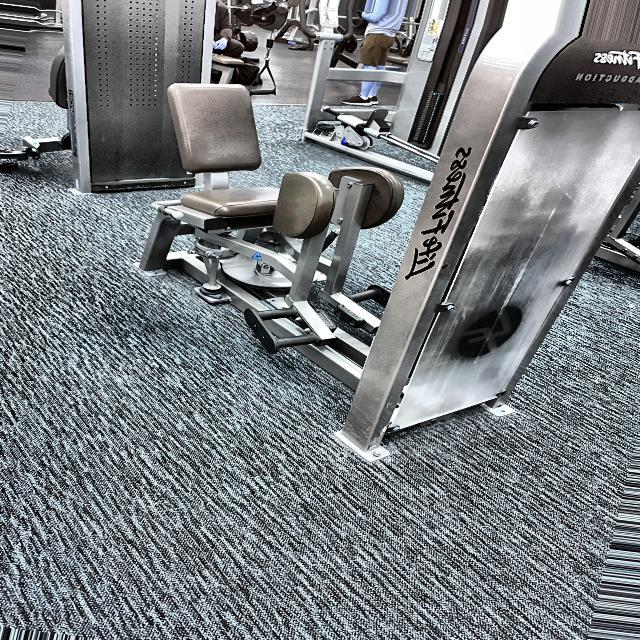hip_adduction_machine: (154, 75, 406, 370), (178, 145, 423, 373)
